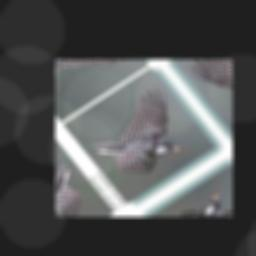Woodpecker: (78, 79, 207, 191)
